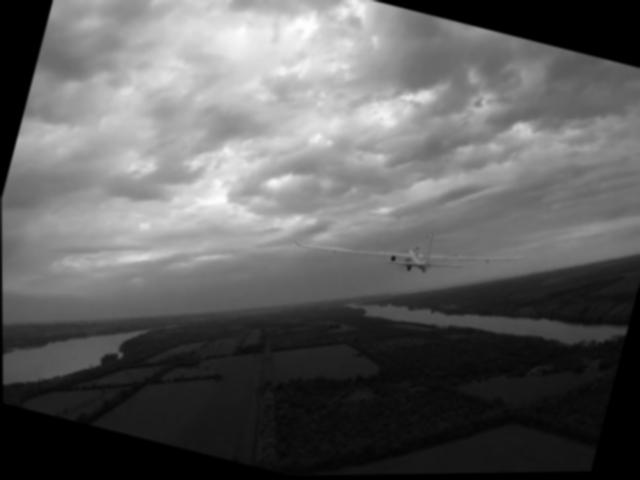hedef: (303, 192, 512, 315)
